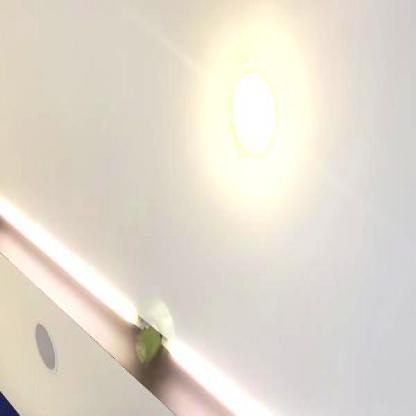light_on: (228, 65, 277, 166)
